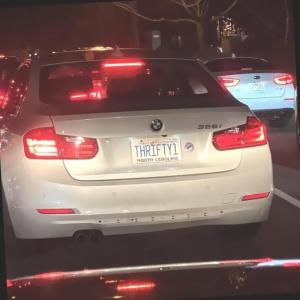Plate: (130, 136, 182, 165)
